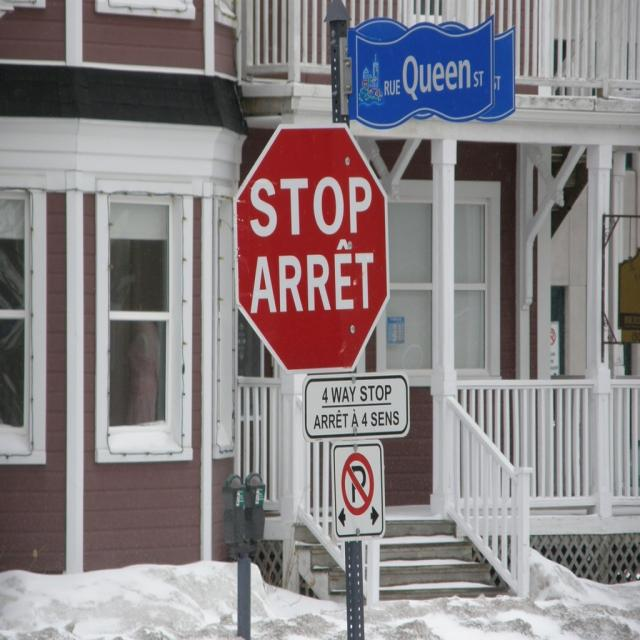Stop-sign: (234, 119, 389, 372)
